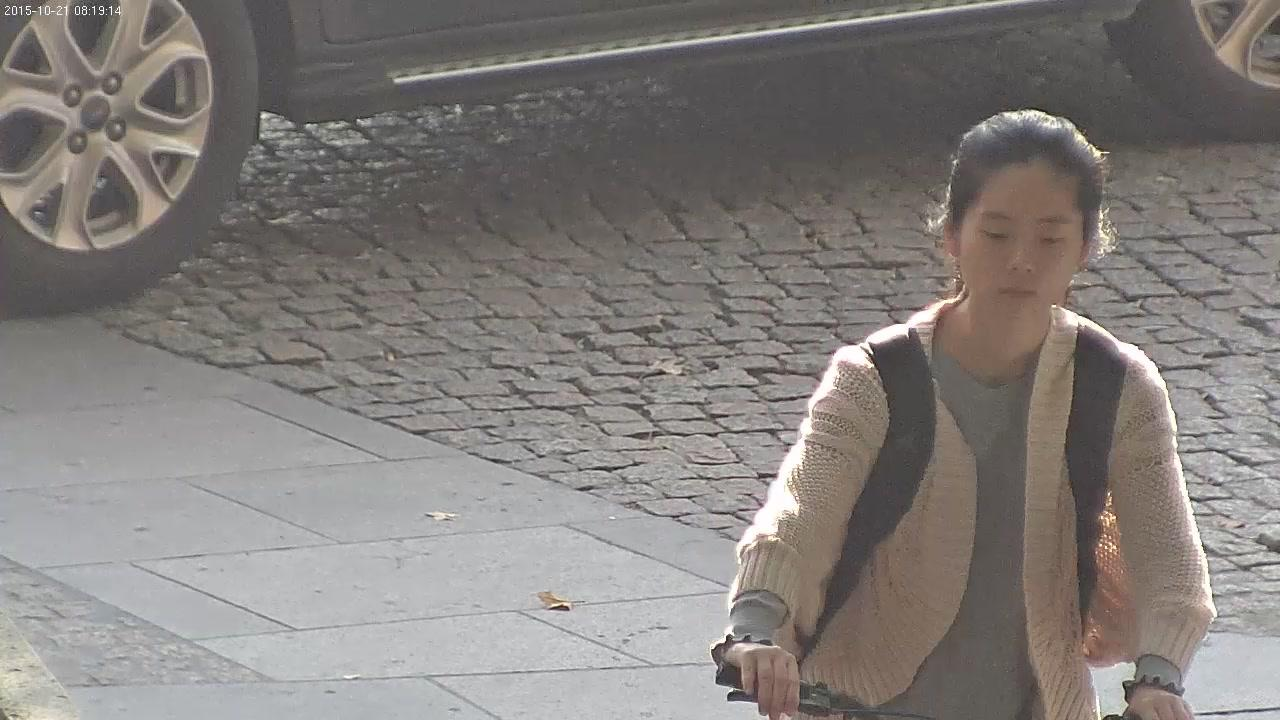person: (710, 104, 1215, 720), (710, 106, 1216, 720)
